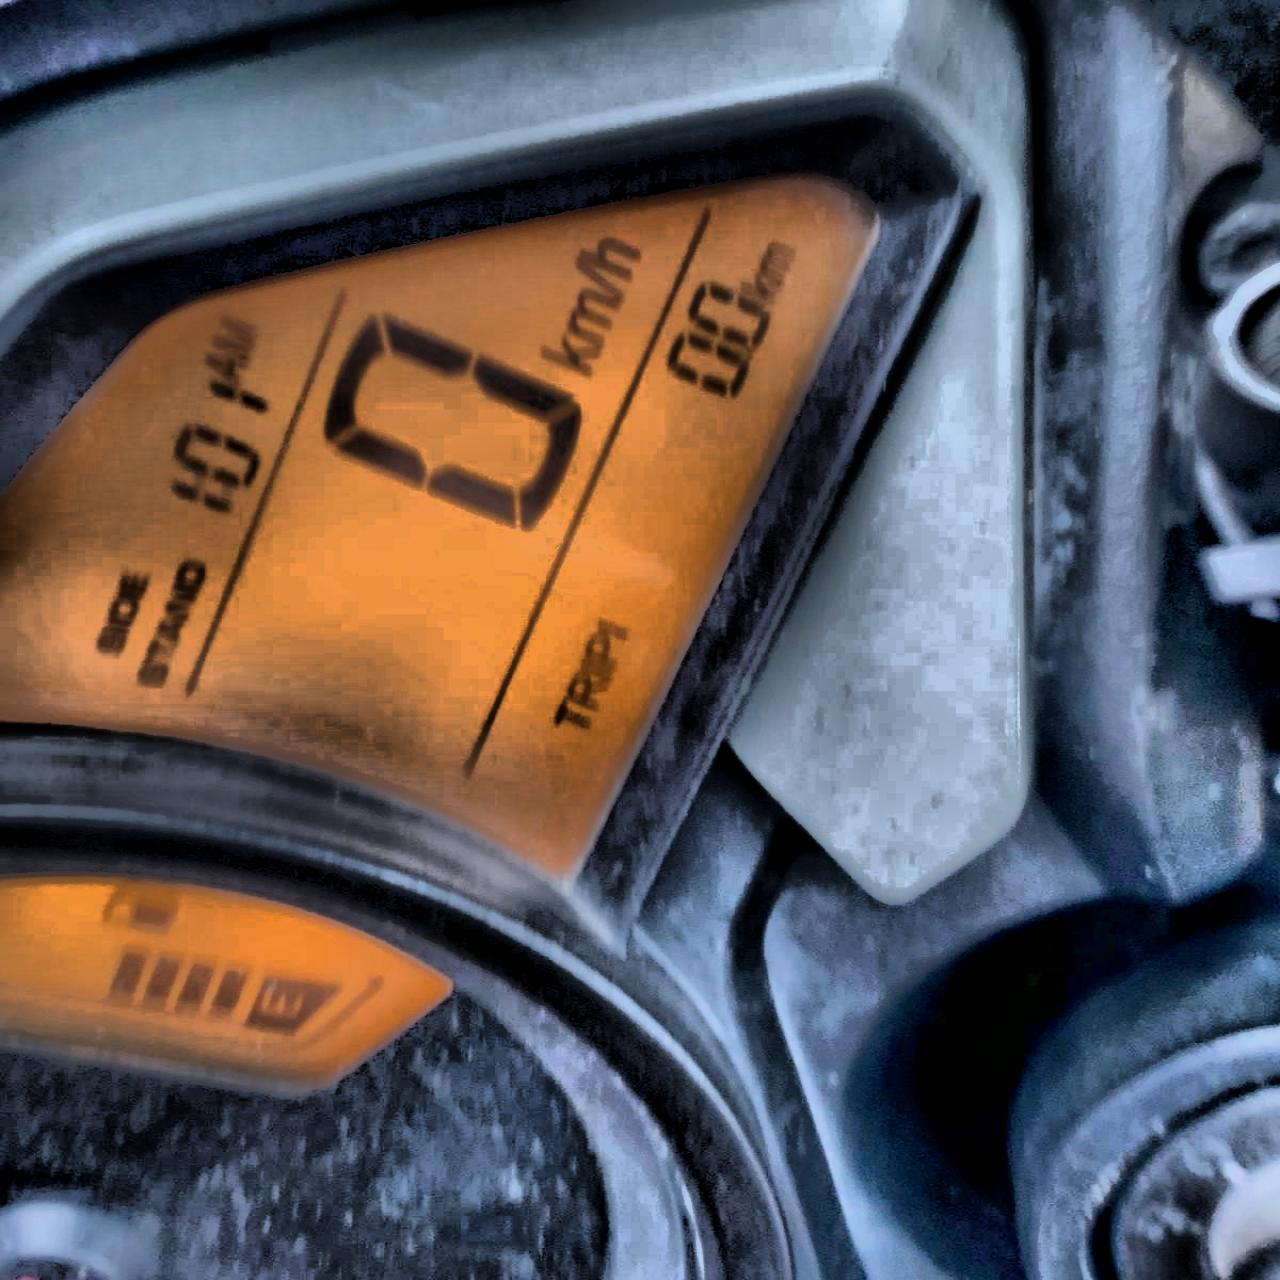-: (738, 348, 756, 359)
0: (318, 313, 584, 530), (176, 424, 263, 485), (688, 282, 769, 347), (665, 334, 743, 394)
1: (198, 380, 275, 414), (171, 482, 240, 517), (594, 619, 628, 641)
X: (567, 290, 617, 345), (580, 234, 640, 279), (538, 335, 599, 376), (573, 258, 621, 300), (216, 315, 257, 354), (563, 672, 601, 709), (549, 699, 587, 729), (583, 632, 614, 666), (203, 354, 246, 379), (114, 571, 152, 598), (756, 241, 790, 272), (173, 559, 205, 590), (745, 274, 782, 299), (166, 591, 196, 620), (111, 598, 141, 625), (137, 660, 163, 687), (156, 621, 186, 641), (581, 658, 610, 678), (95, 635, 127, 653), (148, 641, 176, 660), (102, 625, 129, 636)
odometer: (1, 109, 907, 897)
